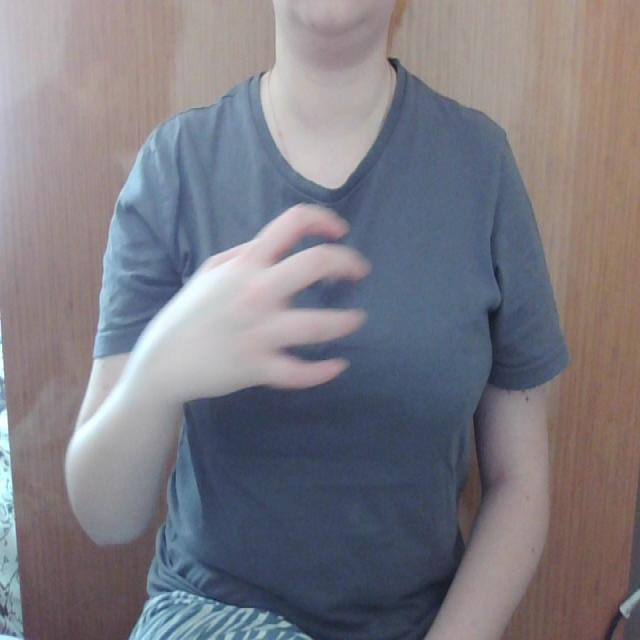Anne: (156, 195, 484, 415)
